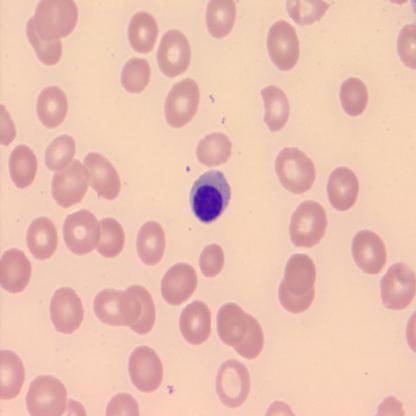NRC: (189, 166, 232, 224)
